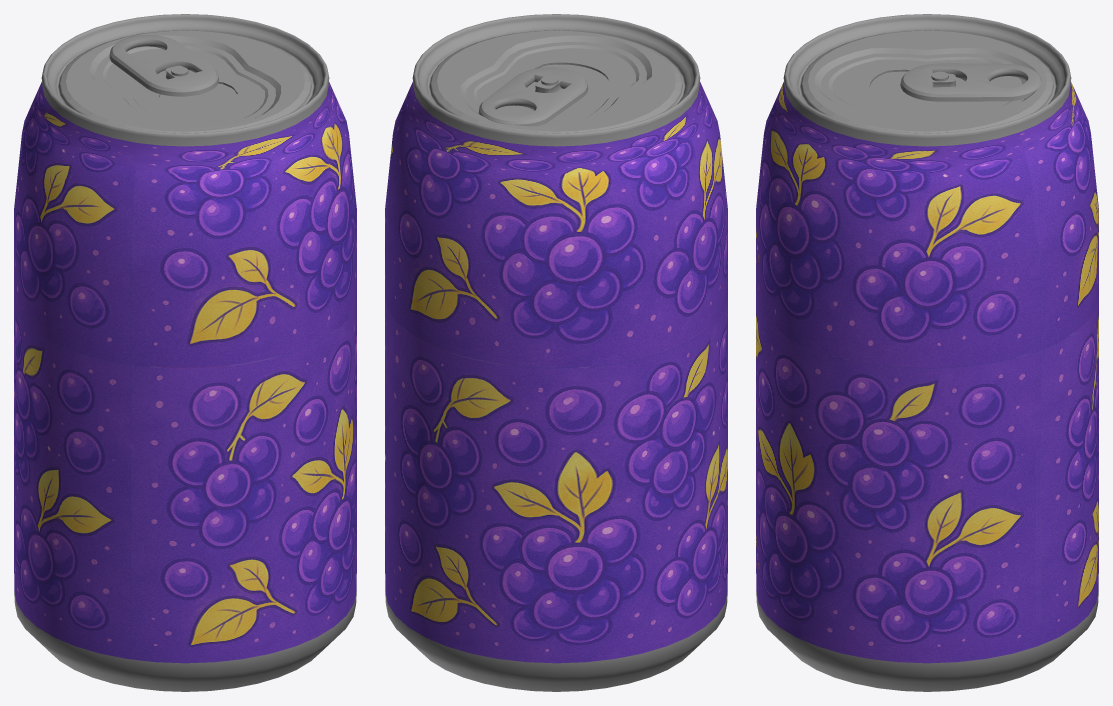
The model's file is Pepsi Can.FBX.
3 views of the same model, side by side, from view 1: azimuth 30°, elevation 25°; view 2: azimuth 150°, elevation 25°; view 3: azimuth 270°, elevation 25° (orthographic).
Parts seen in each view (by area): view 1: Can; view 2: Can; view 3: Can.
Boxes of the visible parts, bbox=[...] form: Can: bbox=[14, 14, 356, 691]; Can: bbox=[385, 14, 727, 691]; Can: bbox=[756, 14, 1098, 691].
Bounding box in the file's own units: 83.76 × 151 × 83.75.
Materials: 2 (1 with a texture image).
